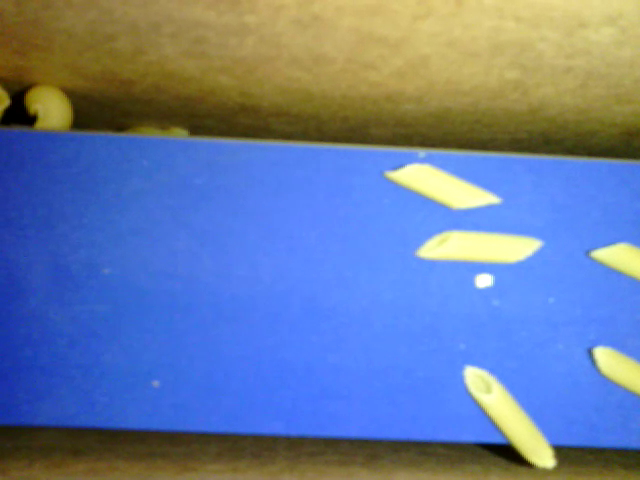penne: (461, 363, 556, 468), (383, 157, 504, 216), (417, 230, 548, 268), (589, 342, 638, 394), (587, 236, 637, 279)
shell: (24, 83, 75, 132)
